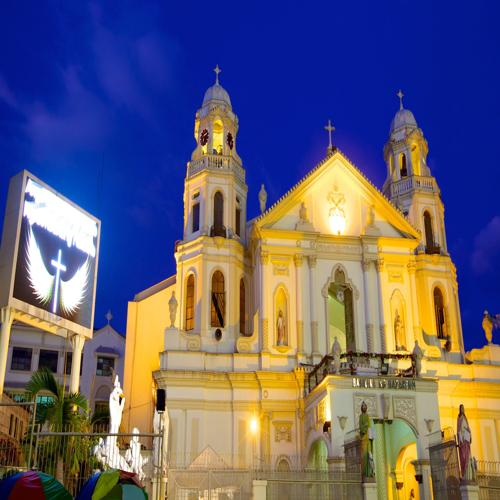Quiapo Church: (129, 47, 485, 464)
